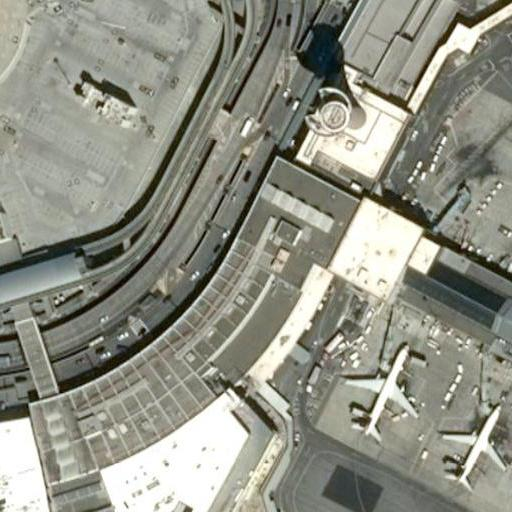Aircraft: (342, 337, 419, 441), (437, 397, 508, 493)
